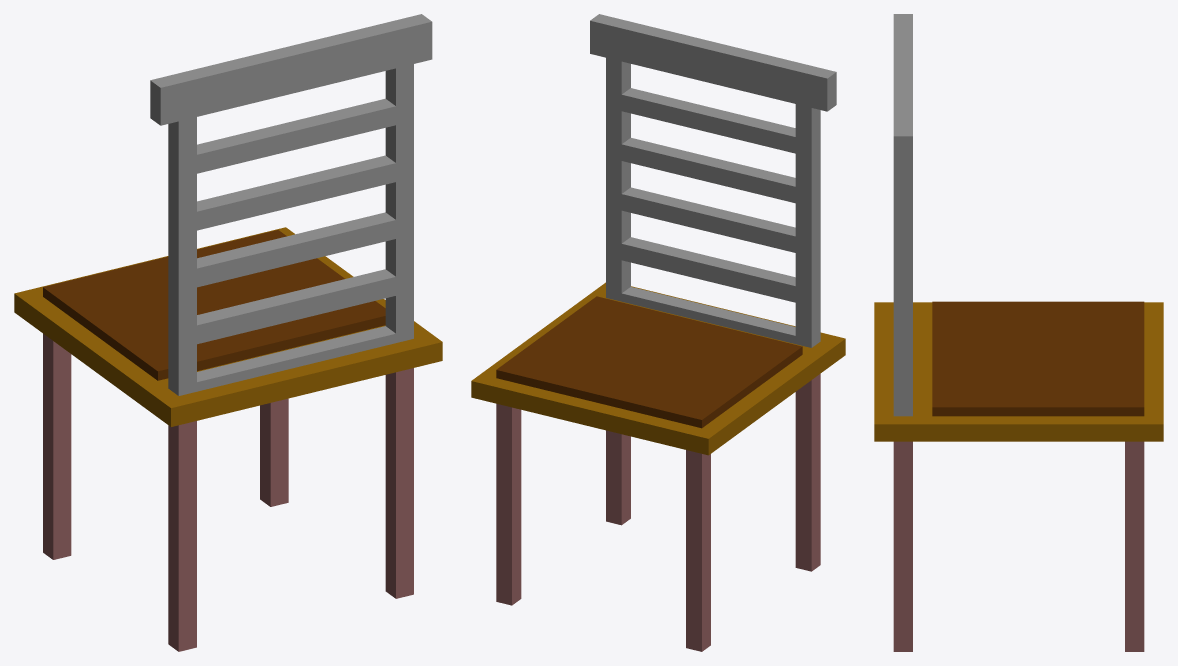
File: chair2.gltf
3 renders of one model, left to right at view 1: azimuth 30°, elevation 25°; view 2: azimuth 150°, elevation 25°; view 3: azimuth 270°, elevation 25°, orthographic. The views are drawn at different scales.
Parts seen in each view (by area): view 1: chair2; view 2: chair2; view 3: chair2.
Part boxes in pixels (left/top/right/bottom): chair2: left=14, top=14, right=442, bottom=651; chair2: left=471, top=14, right=845, bottom=651; chair2: left=874, top=14, right=1163, bottom=651.
Size of the model in its own units: 3 by 6 by 3.
1 material, 1 textured.
